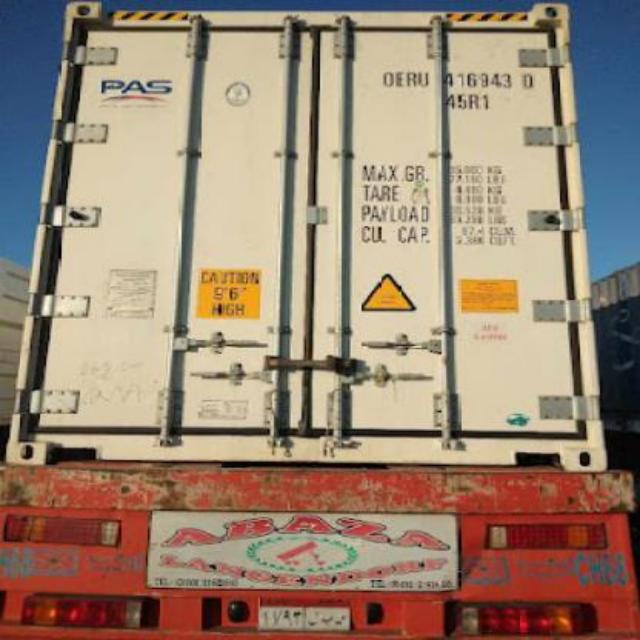0: (522, 68, 534, 92)
1: (454, 64, 466, 92)
3: (501, 58, 514, 94)
4: (442, 68, 456, 92), (490, 64, 500, 96)
6: (464, 64, 476, 90)
9: (476, 67, 489, 91)
E: (394, 66, 408, 90)
O: (382, 64, 396, 92)
R: (406, 66, 416, 94)
U: (416, 63, 429, 95)
